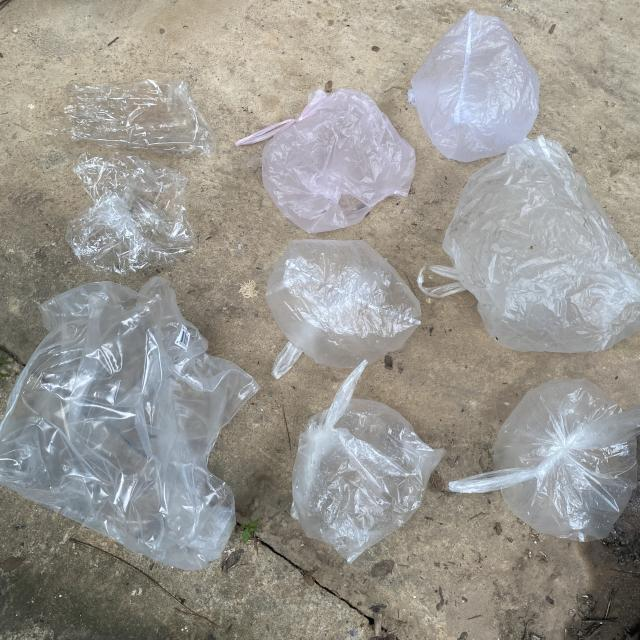Single-layer Plastic: (0, 276, 258, 570), (418, 136, 640, 352), (48, 80, 215, 274), (291, 361, 445, 562), (449, 379, 640, 541), (235, 89, 415, 232), (266, 240, 421, 379), (409, 10, 540, 162)
